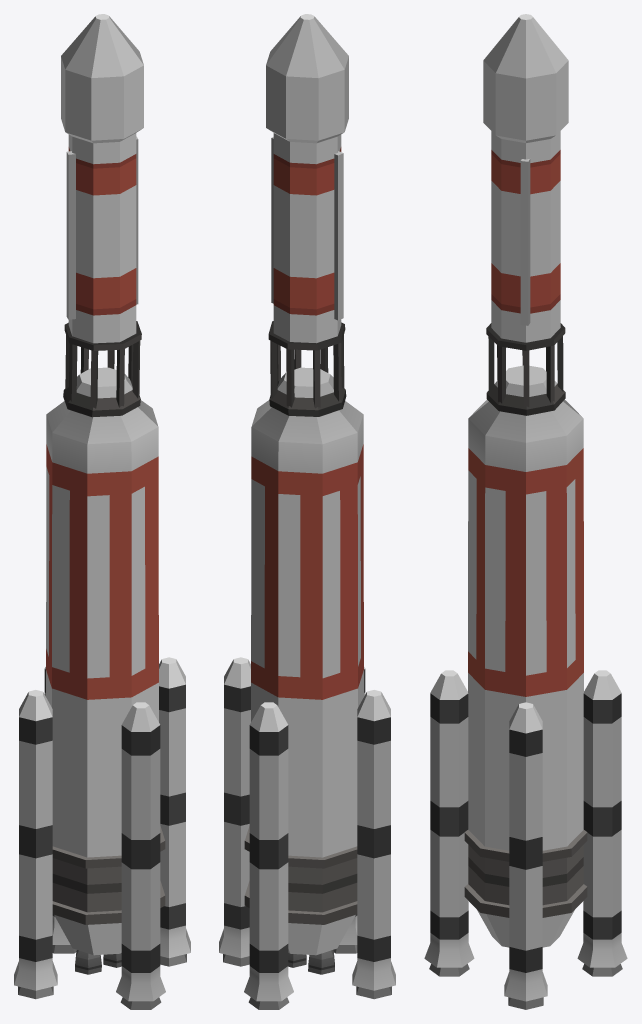
File: SM_Veh_Rocket_20.fbx
3 views of the same model, side by side, from view 1: azimuth 30°, elevation 25°; view 2: azimuth 150°, elevation 25°; view 3: azimuth 270°, elevation 25° (orthographic).
Parts seen in each view (by area): view 1: SM_Veh_Rocket_20; view 2: SM_Veh_Rocket_20; view 3: SM_Veh_Rocket_20.
Part boxes in pixels (left/top/right/bottom): SM_Veh_Rocket_20: left=14, top=14, right=190, bottom=1009; SM_Veh_Rocket_20: left=219, top=14, right=395, bottom=1009; SM_Veh_Rocket_20: left=424, top=14, right=627, bottom=1009.
Size of the model in its own units: 4.8 by 24.82 by 4.8.
